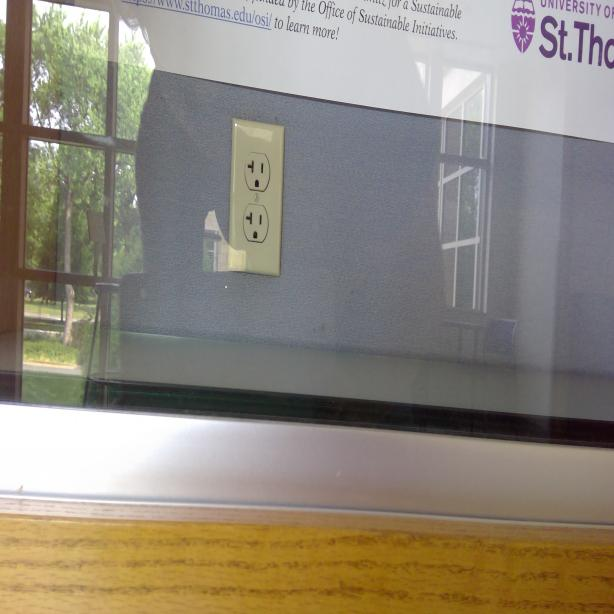typeb: (246, 152, 270, 191), (244, 206, 266, 242)
